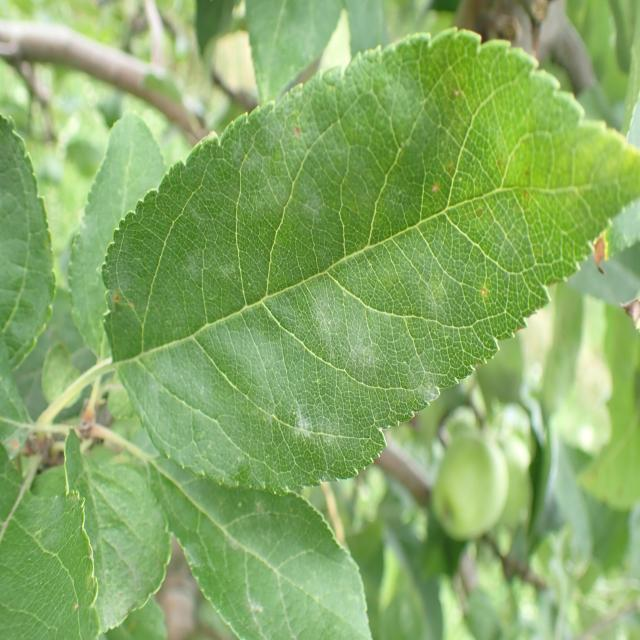Powdery_mildew: (94, 65, 615, 478)
